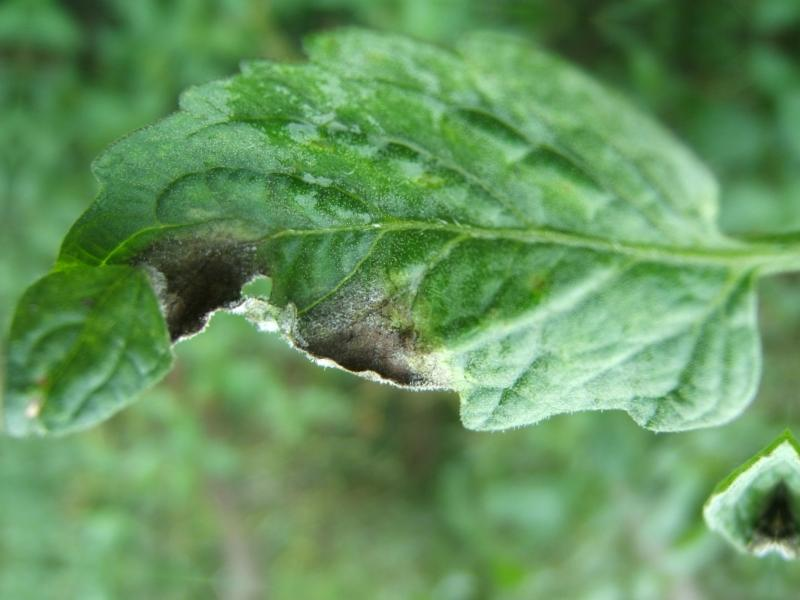Tomato leaf late blight: (14, 0, 798, 482)
